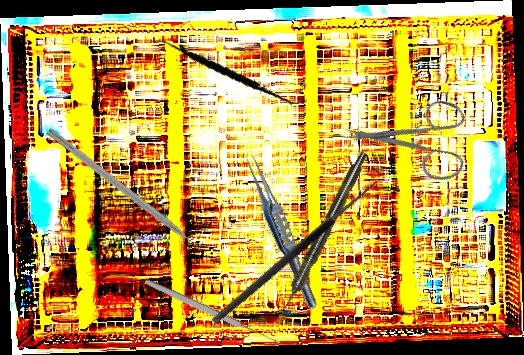Chopper: (39, 127, 210, 266)
Handpiece: (276, 149, 371, 316)
Hook Surgical: (203, 164, 387, 327)
Iris Scissors: (338, 68, 491, 217)
Spatula Surgical: (149, 19, 308, 123)
Surgical Spoon: (143, 277, 282, 348)
Tissue Forceps: (237, 150, 326, 313)
